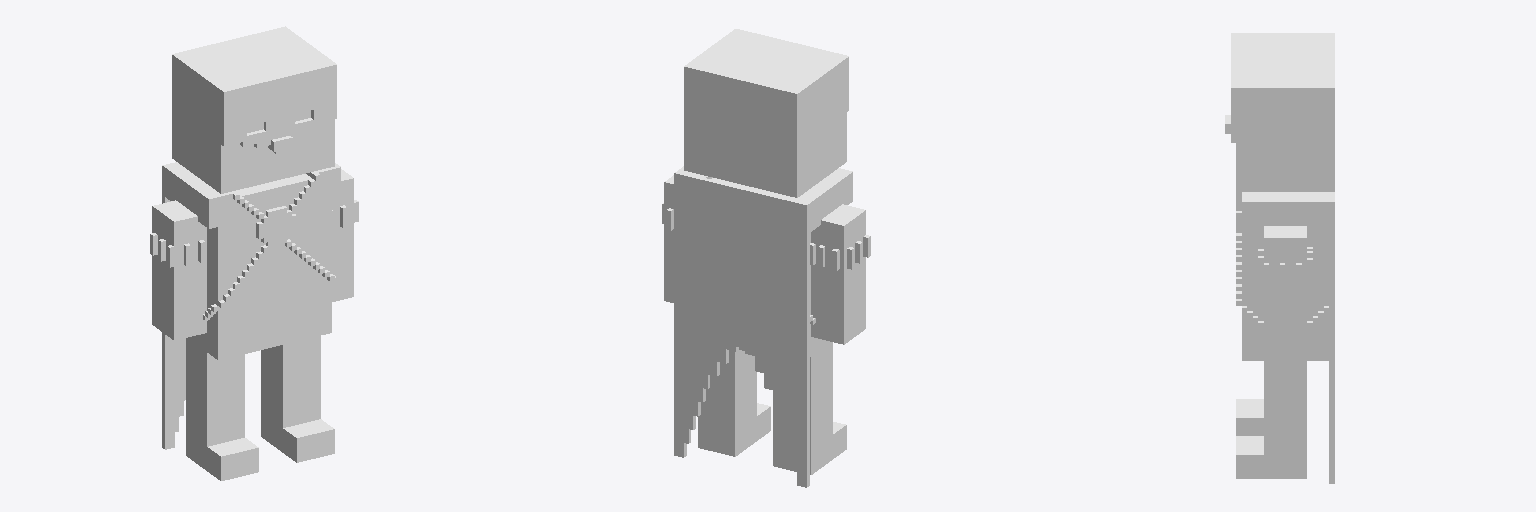
The model's file is RedRobin.obj.
3 renders of one model, left to right at view 1: azimuth 30°, elevation 25°; view 2: azimuth 150°, elevation 25°; view 3: azimuth 270°, elevation 25°, orthographic.
Parts seen in each view (by area): view 1: object 1; view 2: object 1; view 3: object 1.
Boxes of the visible parts, x1,y1,x2,y2 form: object 1: [150, 26, 358, 480]; object 1: [662, 29, 870, 487]; object 1: [1225, 33, 1334, 483].
Bounding box in the file's own units: 4 × 7.9 × 2.